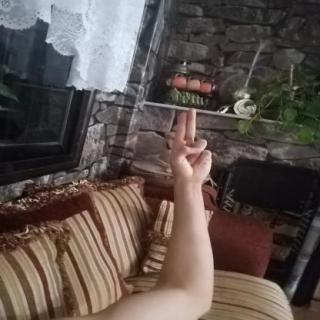TA: (158, 103, 220, 189)
